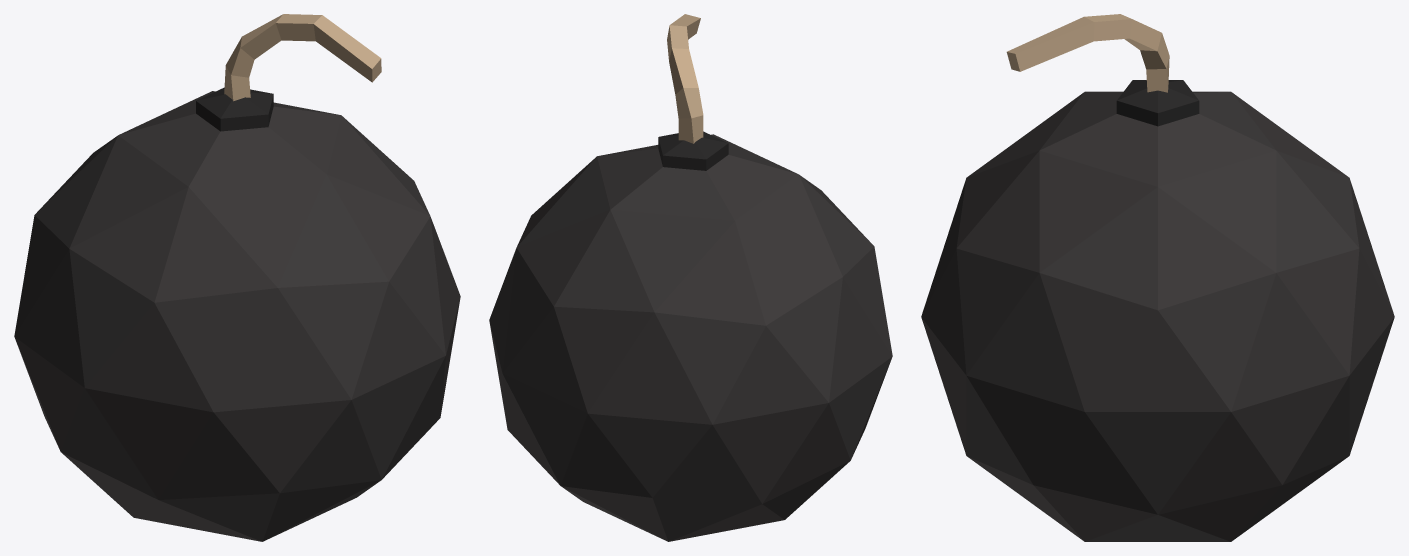
The model's file is Bomb_01.glb.
3 renders of one model, left to right at view 1: azimuth 30°, elevation 25°; view 2: azimuth 150°, elevation 25°; view 3: azimuth 270°, elevation 25°, orthographic. The views are drawn at different scales.
Visible parts, largest first — view 1: Bomb_01; view 2: Bomb_01; view 3: Bomb_01.
Boxes of the visible parts, <box> form: Bomb_01: <box>14,14,460,541</box>; Bomb_01: <box>489,14,892,541</box>; Bomb_01: <box>921,14,1394,541</box>.
Size of what is drawn, in the model's own units: 0.2754 by 0.3622 by 0.2896.
Materials: 1 (1 with a texture image).
